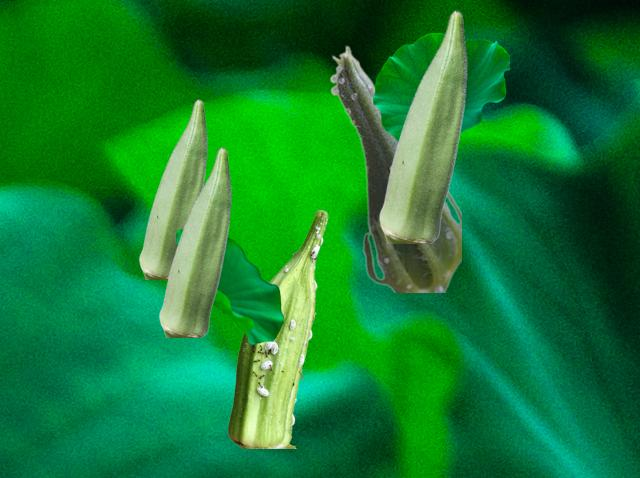okra: (329, 45, 460, 291), (228, 210, 327, 447), (379, 10, 466, 242), (159, 147, 230, 336), (139, 99, 206, 278)
